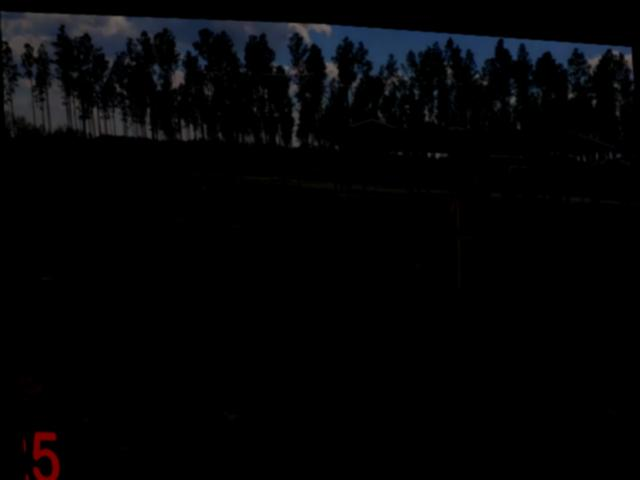plane: (261, 61, 315, 80)
